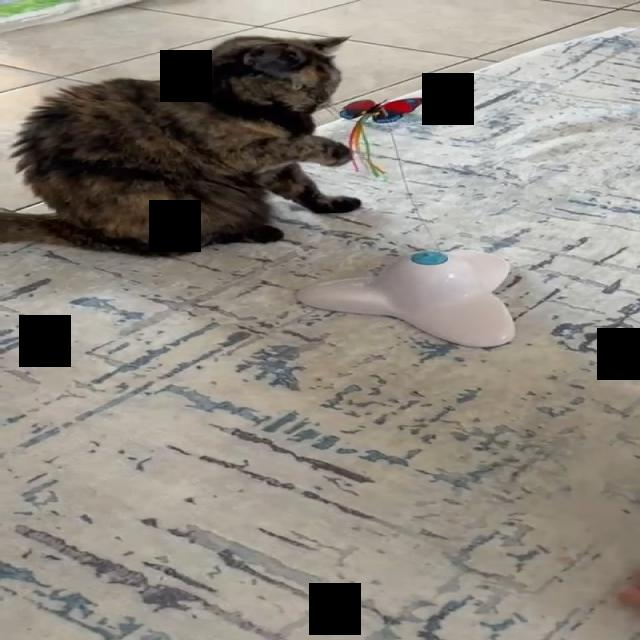authorized: (0, 34, 361, 258)
